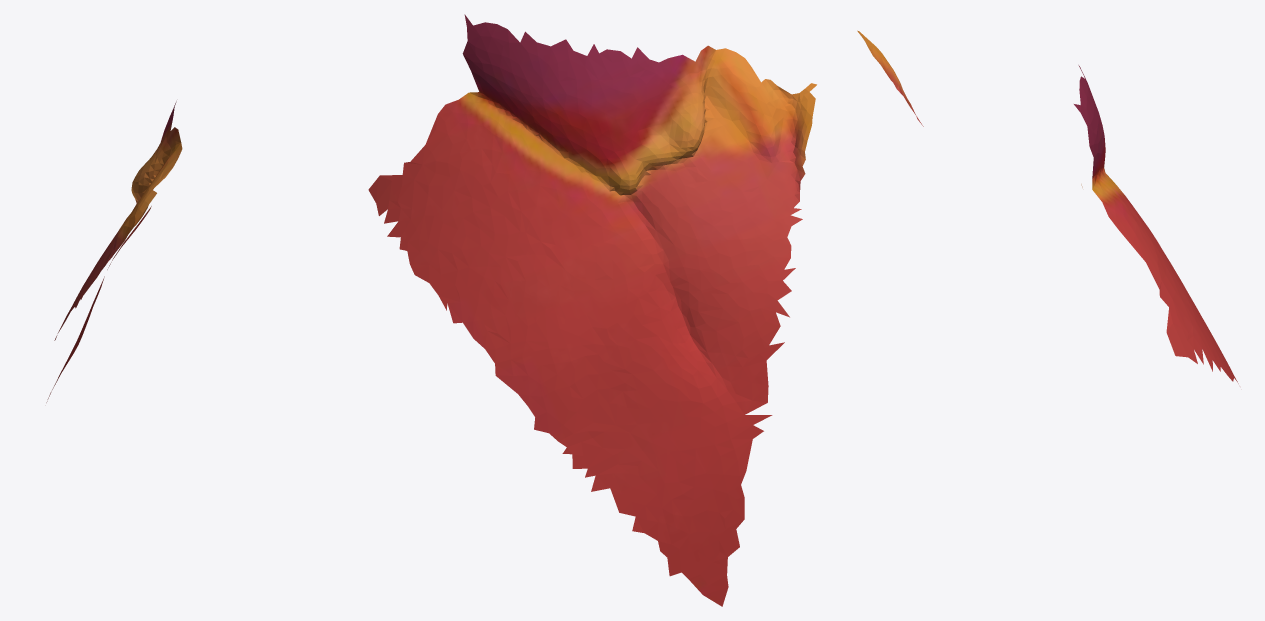
3 views of the same model, side by side, from view 1: azimuth 30°, elevation 25°; view 2: azimuth 150°, elevation 25°; view 3: azimuth 270°, elevation 25° (orthographic). The views are drawn at different scales.
Parts seen in each view (by area): view 1: tripo_mesh_045d8eb0-72ec-4624-9759-a425f321d17a; view 2: tripo_mesh_045d8eb0-72ec-4624-9759-a425f321d17a; view 3: tripo_mesh_045d8eb0-72ec-4624-9759-a425f321d17a.
Part boxes in pixels (x1=…): tripo_mesh_045d8eb0-72ec-4624-9759-a425f321d17a: x1=46, y1=101, x2=182, y2=402; tripo_mesh_045d8eb0-72ec-4624-9759-a425f321d17a: x1=368, y1=14, x2=816, y2=606; tripo_mesh_045d8eb0-72ec-4624-9759-a425f321d17a: x1=857, y1=30, x2=1238, y2=383.
Size of the model in its own units: 0.1844 by 0.2553 by 0.1371.
1 material, 1 textured.
